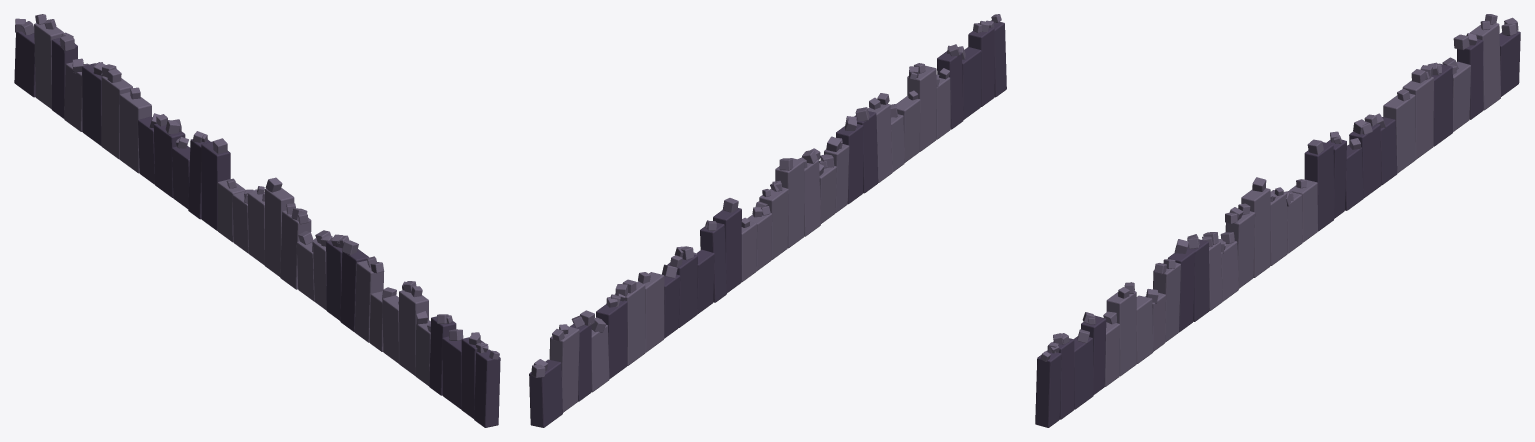
The model's file is WallsE.fbx.
3 renders of one model, left to right at view 1: azimuth 30°, elevation 25°; view 2: azimuth 150°, elevation 25°; view 3: azimuth 330°, elevation 25°, orthographic.
Parts seen in each view (by area): view 1: WallBlock-1_-12.001; view 2: WallBlock-1_-12.001; view 3: WallBlock-1_-12.001.
Part boxes in pixels (bbox=[...]): WallBlock-1_-12.001: bbox=[14, 14, 500, 427]; WallBlock-1_-12.001: bbox=[529, 14, 1006, 427]; WallBlock-1_-12.001: bbox=[1035, 14, 1520, 427].
Bounding box in the file's own units: 633 × 2719 × 26474.
